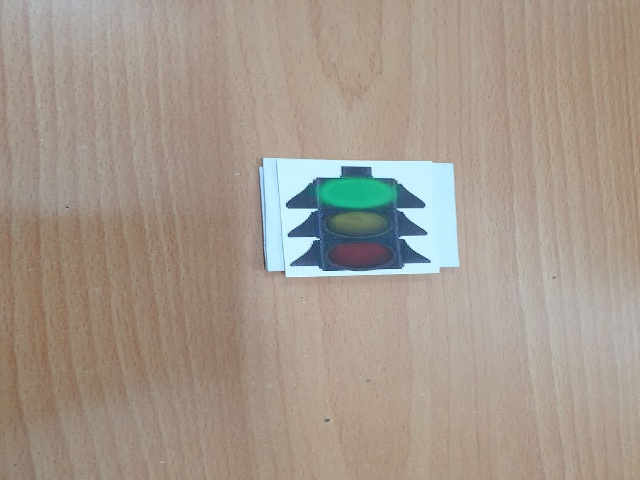Green: (288, 168, 433, 276)
